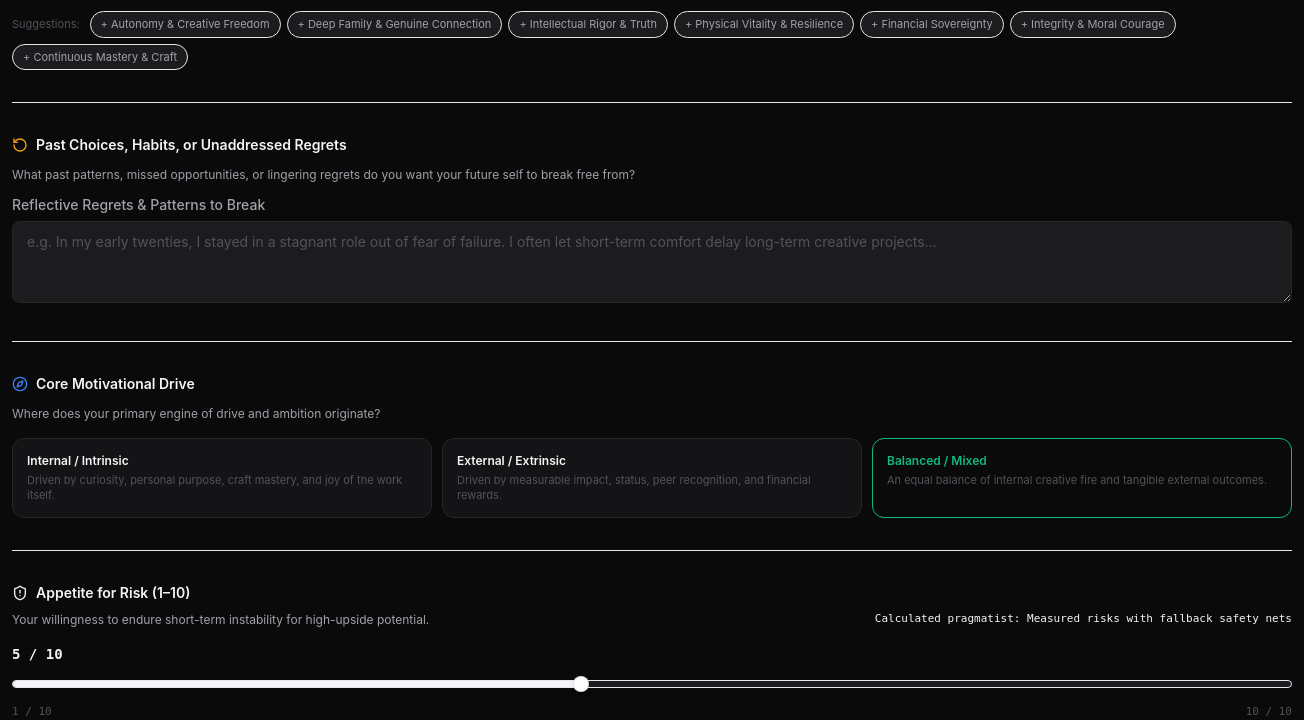
Test: FearsValuesStep Component › updates risk tolerance rating and displays dynamic note
The width and height of the screenshot is (1304, 720).
(page scrolled)
Set the slider named "appetite for risk rating from 1 to 10" to "8" at (652, 678), box [12,636,1292,719]
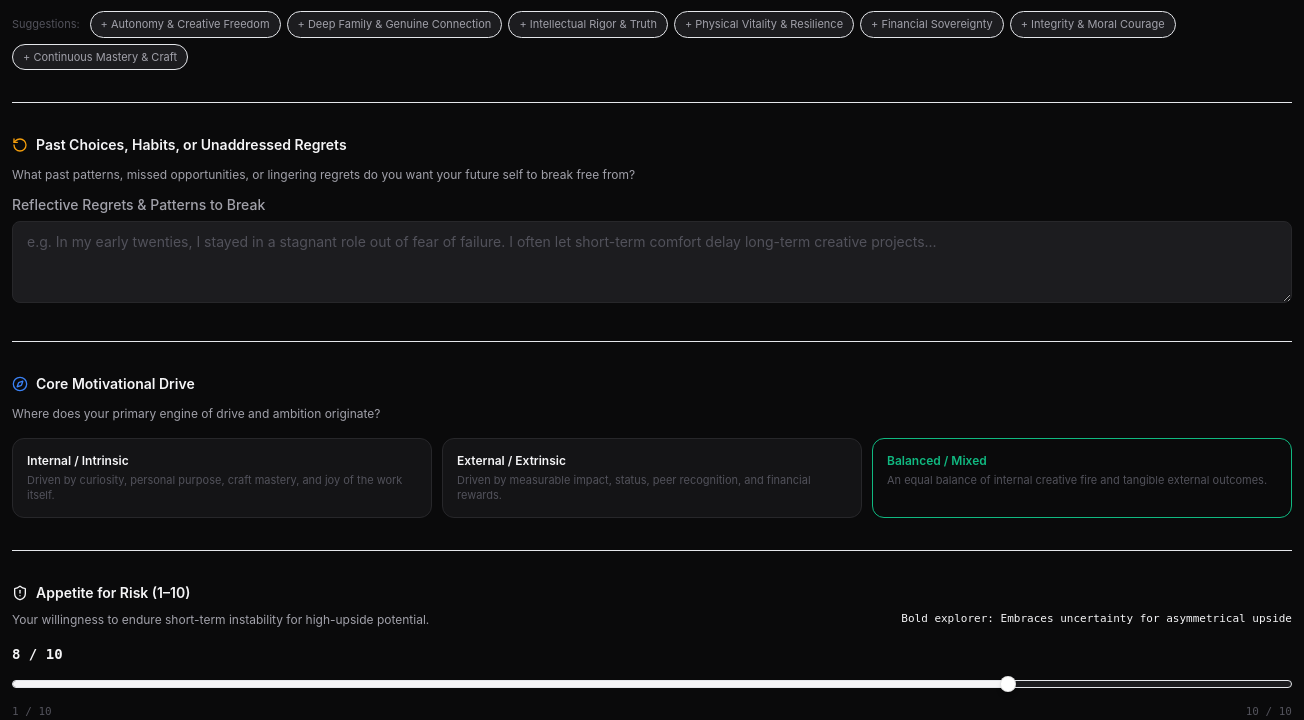
Result: the text "Bold explorer: Embraces uncertainty for asymmetrical upside" is shown at [901,611,1292,628]
